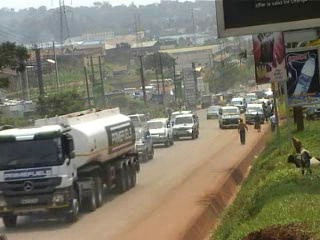Car: (142, 116, 175, 148), (170, 111, 201, 142), (133, 123, 156, 162), (203, 103, 224, 121)
